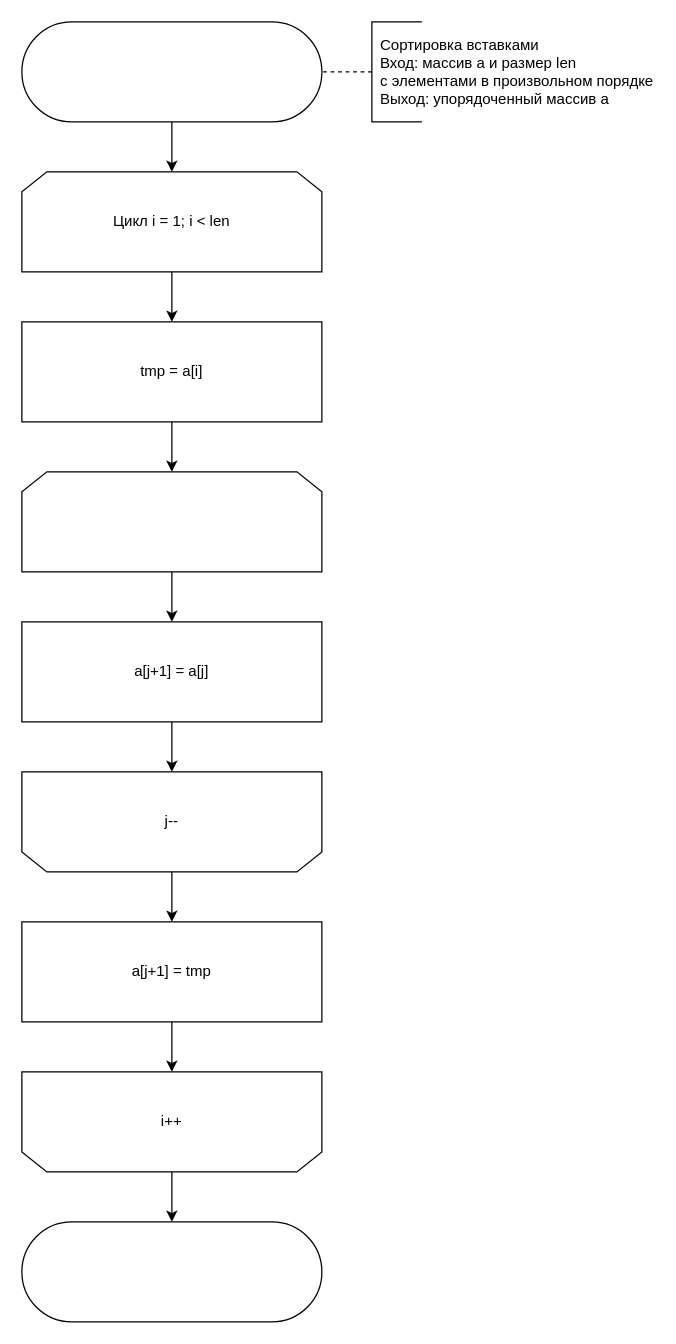
The diagram is 676 pixels wide and 1344 high, and some of its shapes have lost their labels. The shapes that lost their labels are listed below. From the top down, each one's centre as x and y in pixels, then its label:
At pixel 171 71: "Начало".
At pixel 171 521: "Цикл j = i - 1; j >= 0 and a[j] > tmp".
At pixel 171 1271: "Конец".
